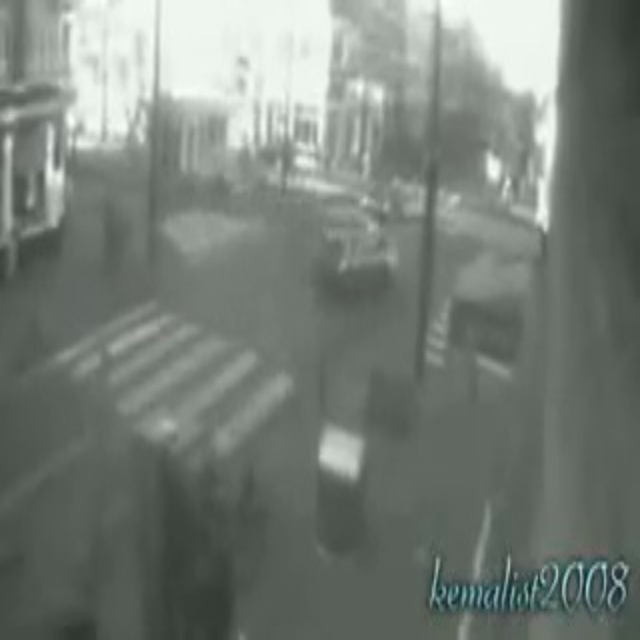acc: (314, 197, 403, 300)
